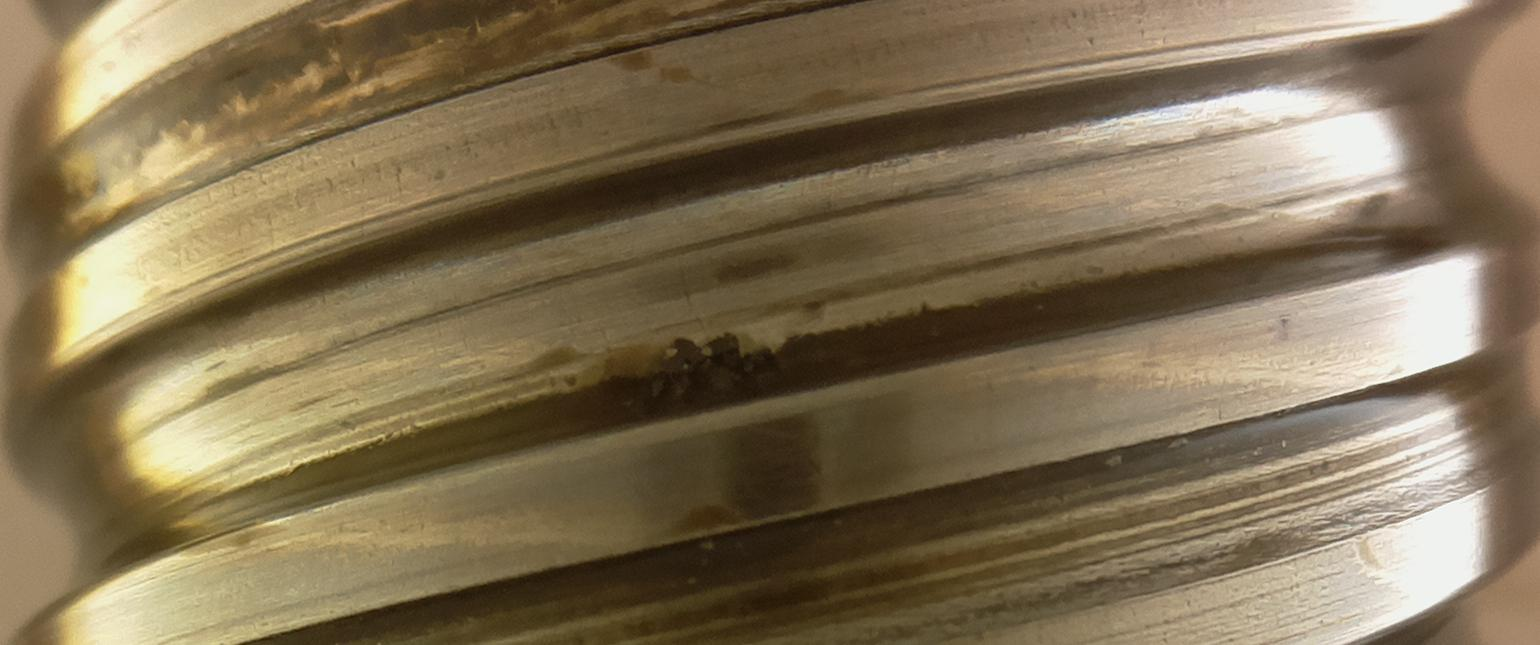pitting: (646, 332, 792, 418)
